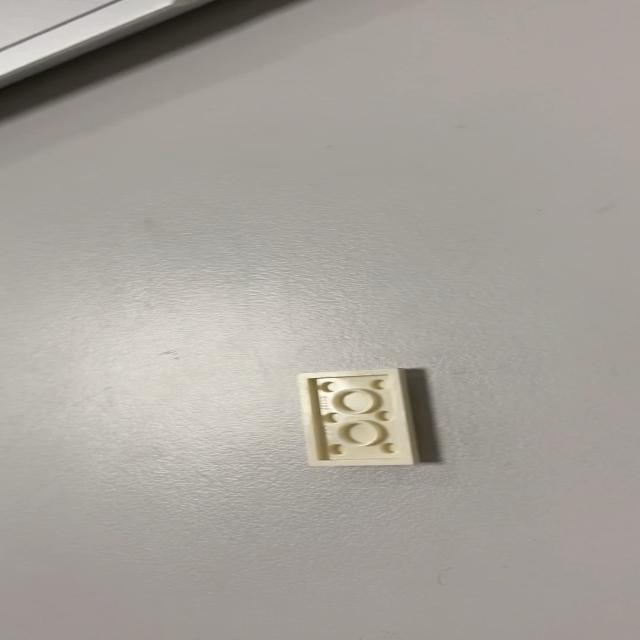C3x2x0: (296, 367, 419, 467)
